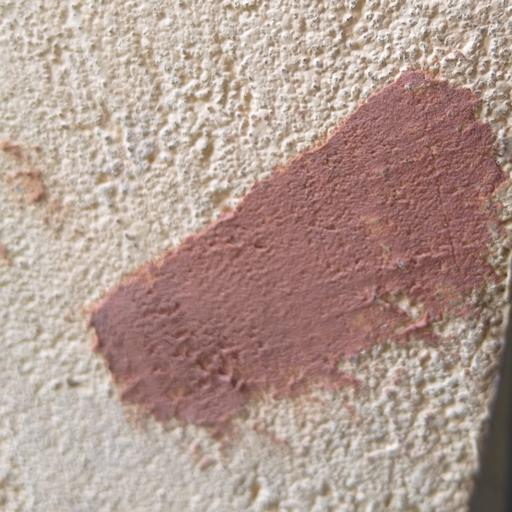stain: (72, 49, 512, 446)
